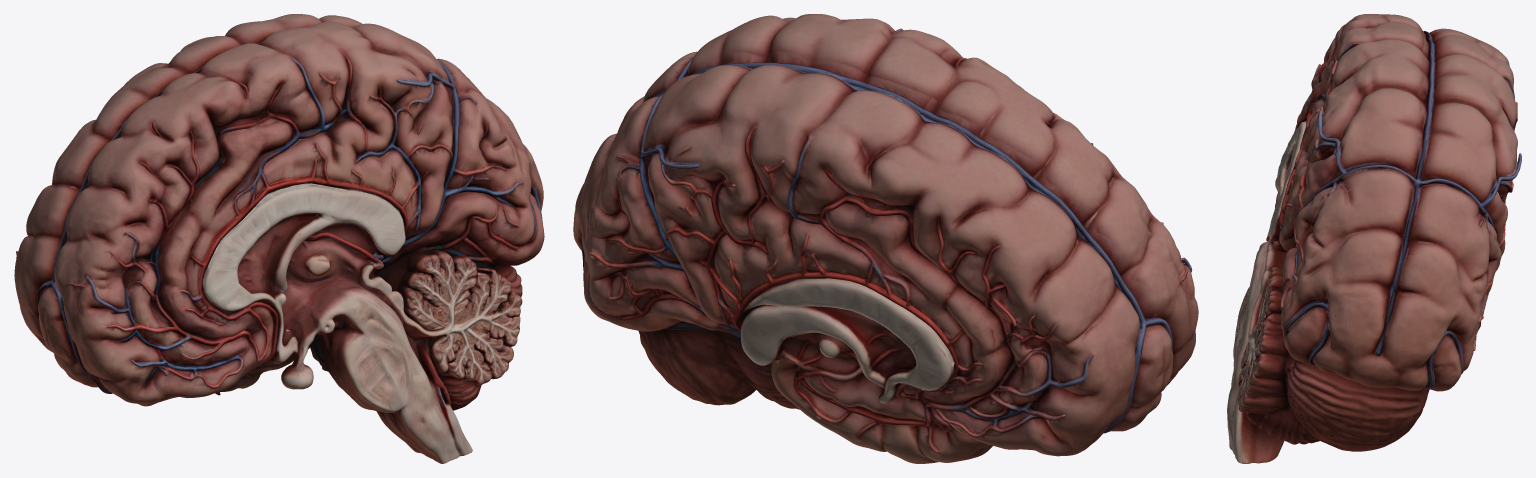
File: brain-v3.glb
The picture shows the model from 3 angles, left to right: view 1: azimuth 30°, elevation 25°; view 2: azimuth 150°, elevation 25°; view 3: azimuth 270°, elevation 25°; orthographic projection. The views are drawn at different scales.
Visible parts, largest first — view 1: tripo_node_ce569aac-2e62-49a0-8782-5480f1fc1305; view 2: tripo_node_ce569aac-2e62-49a0-8782-5480f1fc1305; view 3: tripo_node_ce569aac-2e62-49a0-8782-5480f1fc1305.
Part boxes in pixels (x1,y1,x2,y2): tripo_node_ce569aac-2e62-49a0-8782-5480f1fc1305: (14, 14, 544, 463); tripo_node_ce569aac-2e62-49a0-8782-5480f1fc1305: (573, 14, 1198, 463); tripo_node_ce569aac-2e62-49a0-8782-5480f1fc1305: (1227, 14, 1521, 463).
Bounding box in the file's own units: 0.9999 × 0.7607 × 0.5466.
1 material, 1 textured.
